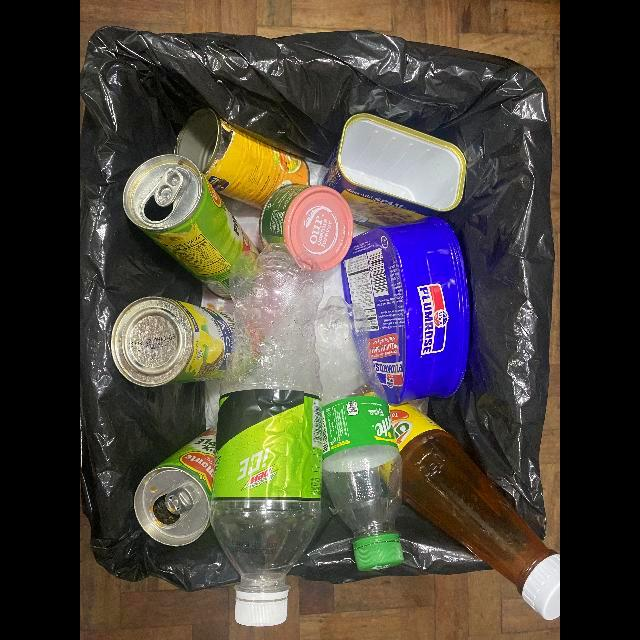aluminum: (341, 217, 470, 405), (122, 154, 259, 300), (317, 113, 467, 229), (177, 108, 310, 210), (110, 297, 235, 388), (134, 428, 217, 547), (259, 184, 354, 272)
glass_bottle: (389, 404, 560, 622)
plastic_bottle: (211, 243, 325, 627), (315, 297, 412, 572)
